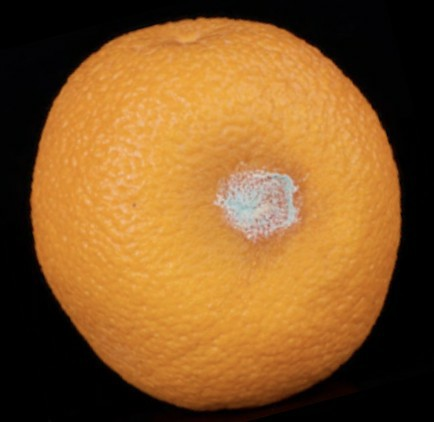rotten_orange: (31, 18, 397, 403)
